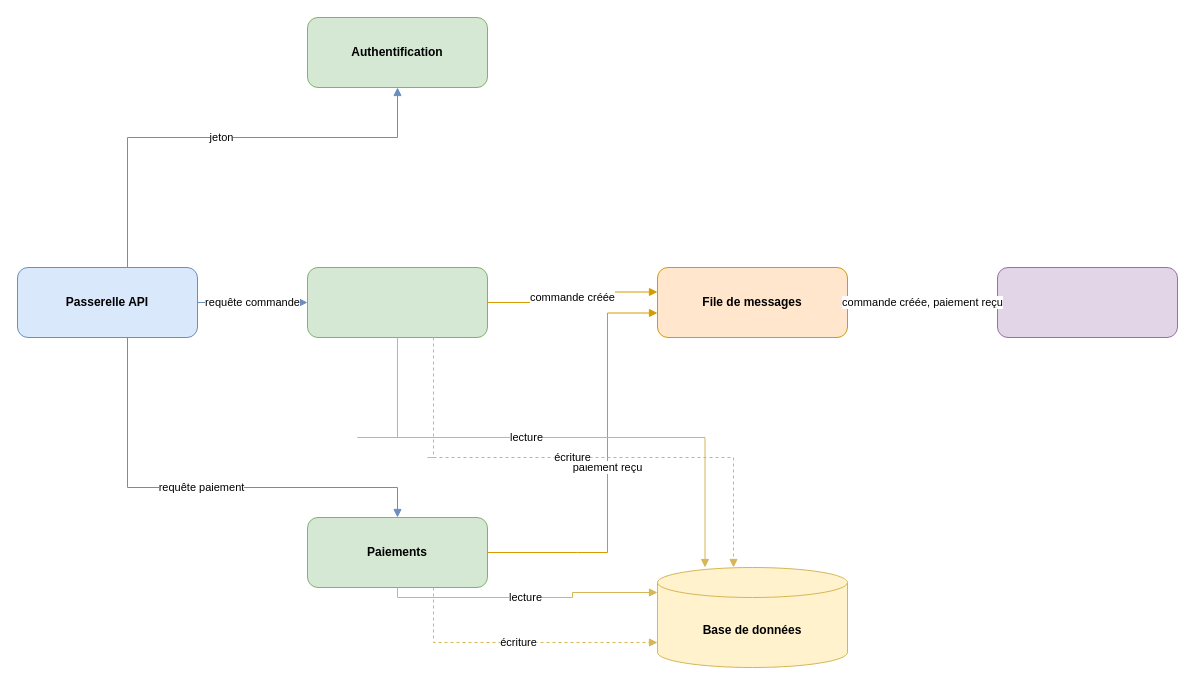
The diagram is 1195 pixels wide and 685 high, and some of its shapes have lost their labels. The centre of each missing label's shape, as x and y in pixels:
Commandes: point (397, 302)
Notifications: point (1087, 302)
